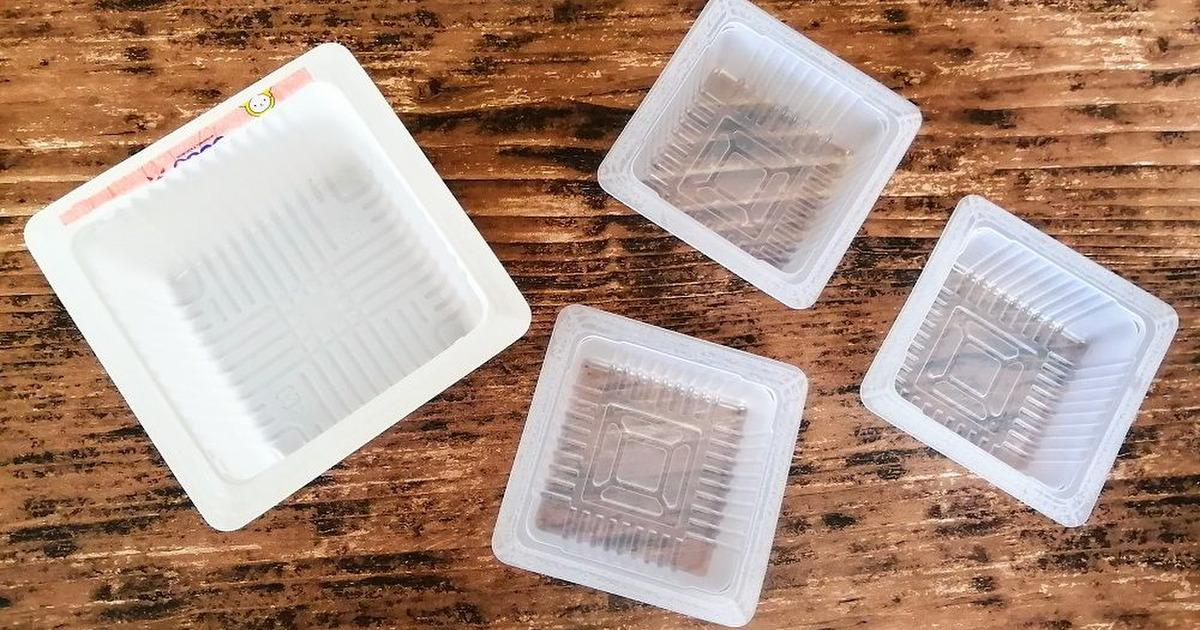plastic: (25, 44, 529, 532), (861, 197, 1176, 527), (492, 306, 806, 629), (598, 0, 920, 309)
